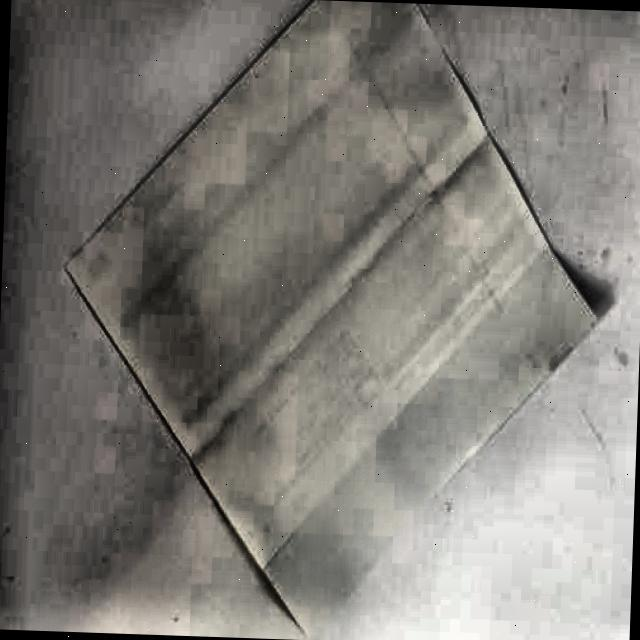paper: (58, 0, 609, 610)
